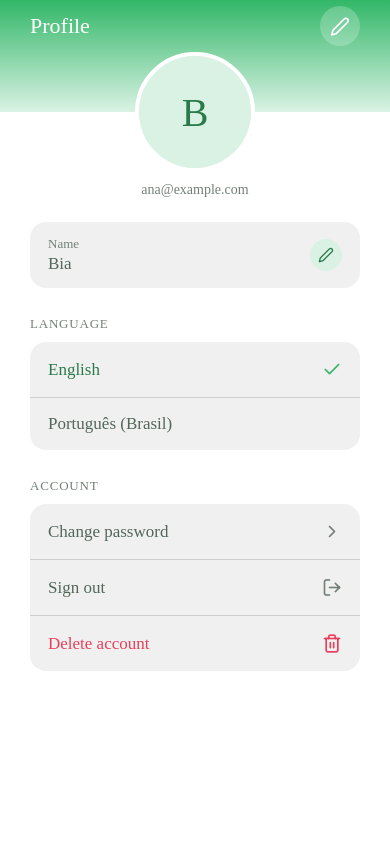
Profile signed in › name › saves the trimmed name with PATCH /me and says Saved
The width and height of the screenshot is (390, 844).
Check: the text "ana@example.com" is shown, box [141,182,249,197]
Click the button named "Edit name" at (326, 255), box [310,239,342,271]
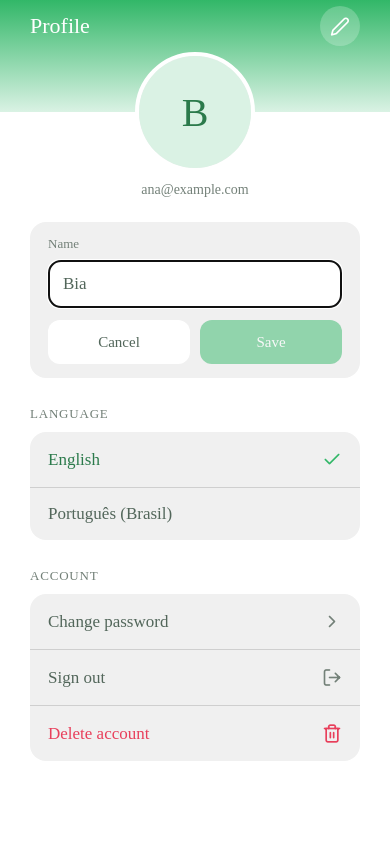
Replace the text in the field named "Name" with "  Ana " at (195, 284), box [48,260,342,308]
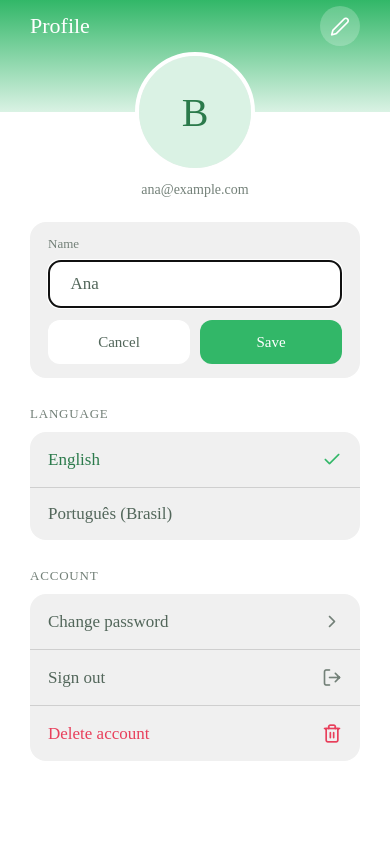
Click the button "Save" at (271, 342), box [200,320,342,364]
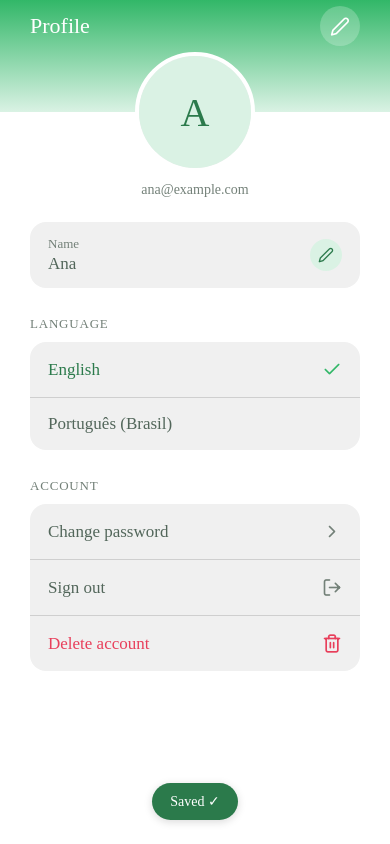
Check: the text "Saved ✓" is shown, box [170,793,220,810]
Check: the text "Ana" is shown, box [48,254,79,274]
